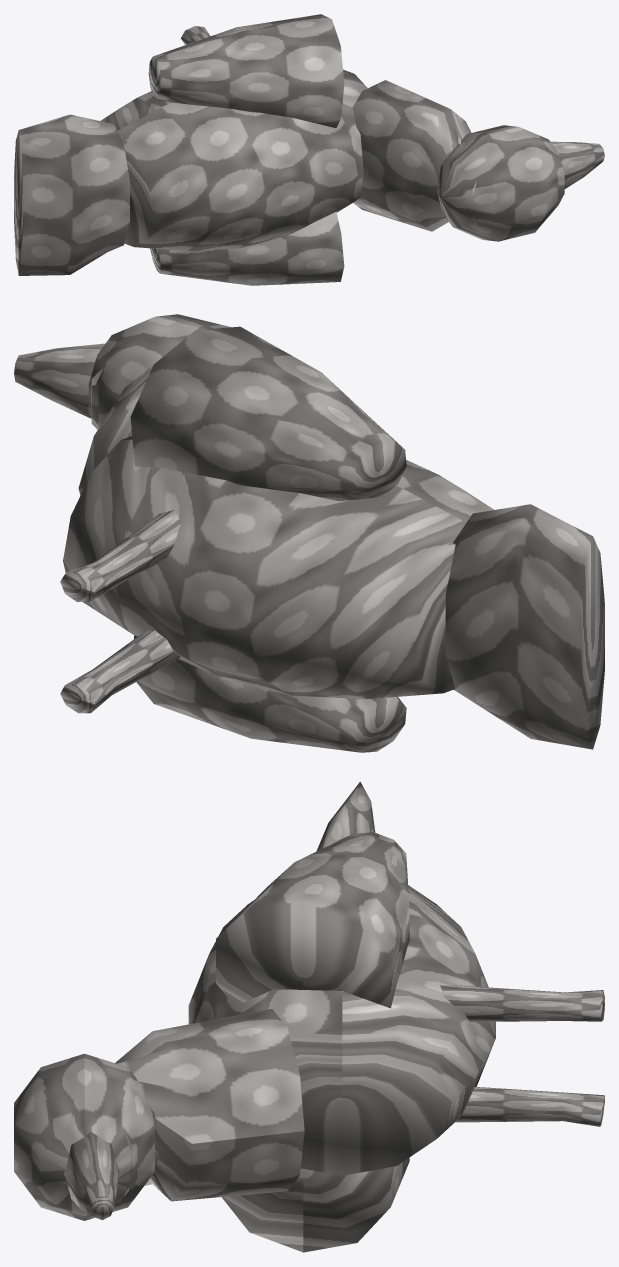
File: crow.obj
3 renders of one model, top to bottom at view 1: azimuth 30°, elevation 25°; view 2: azimuth 150°, elevation 25°; view 3: azimuth 270°, elevation 25°, orthographic. The views are drawn at different scales.
Parts seen in each view (by area): view 1: crow; view 2: crow; view 3: crow.
Part boxes in pixels (bbox=[...]): crow: bbox=[14, 14, 604, 285]; crow: bbox=[14, 314, 604, 752]; crow: bbox=[14, 781, 604, 1252].
Size of the model in its own units: 0.3933 by 0.1956 by 0.2994.
Materials: 1 (1 with a texture image).
